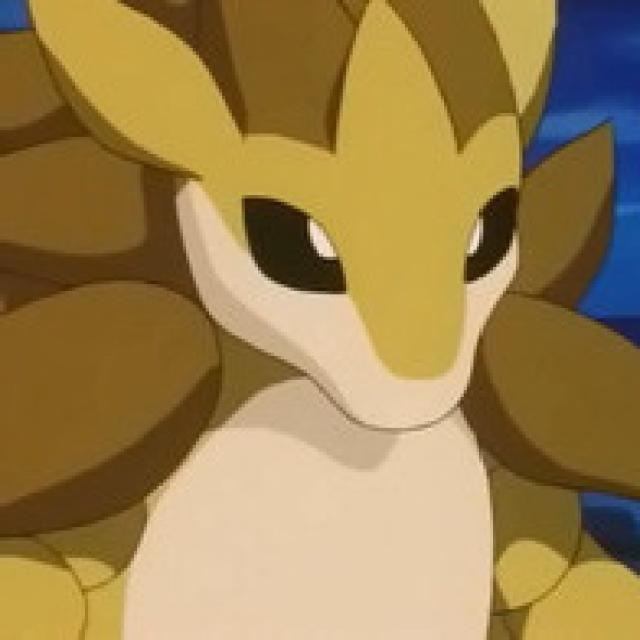Sandslash: (114, 0, 545, 640)
